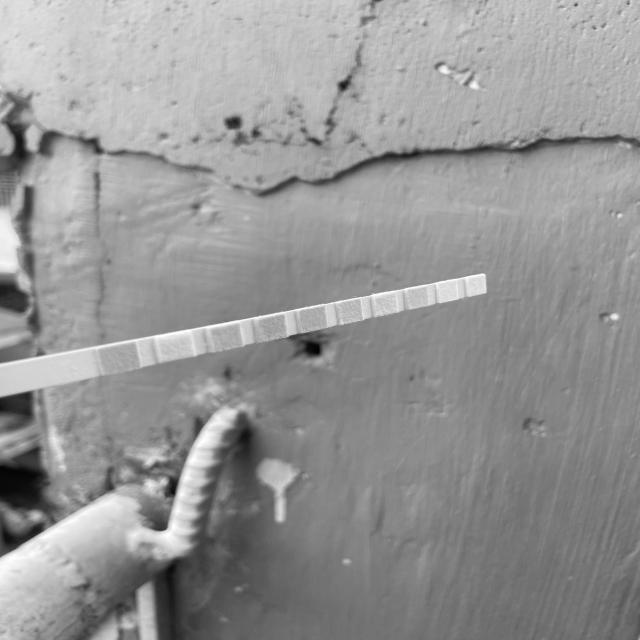Bilirubin: (157, 335, 192, 358)
Blood: (299, 310, 325, 329)
Glucose: (101, 347, 136, 370)
Ketone: (209, 327, 241, 348)
Leukocytes: (466, 276, 486, 293)
Nitrite: (436, 283, 456, 300)
Protein: (371, 295, 397, 313)
SpGravity: (255, 318, 286, 338)
Urobilinogen: (404, 288, 427, 306)
background: (0, 0, 640, 640)
pH: (336, 302, 362, 321)
strip: (0, 274, 486, 397)
